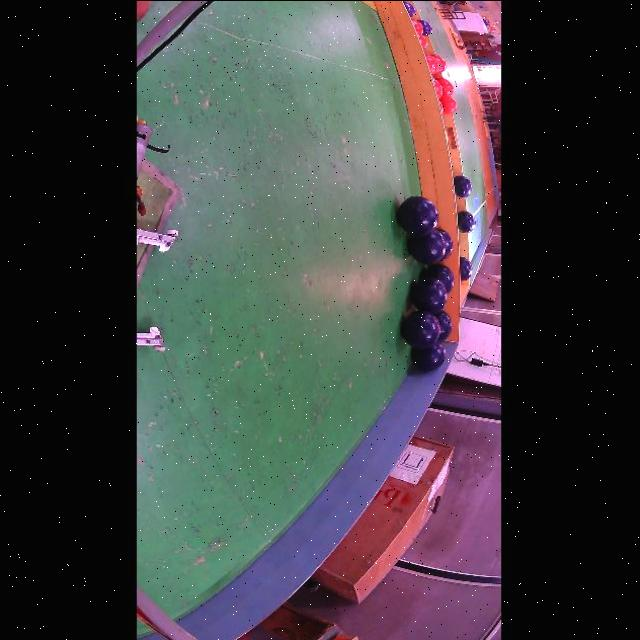B: (397, 195, 439, 236), (401, 309, 441, 349), (411, 276, 447, 313), (408, 230, 447, 264), (413, 340, 446, 370), (422, 263, 454, 293), (437, 227, 453, 260), (435, 309, 452, 340), (453, 174, 472, 197), (458, 211, 476, 232), (459, 256, 472, 280)
P: (419, 18, 433, 35), (403, 1, 416, 16)
R: (435, 76, 454, 95), (441, 95, 457, 113), (432, 54, 447, 70), (425, 54, 437, 74), (432, 54, 443, 73), (411, 18, 424, 33), (434, 78, 443, 98), (418, 33, 428, 49), (439, 99, 444, 113)
